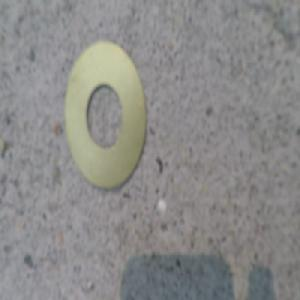Washer: (64, 41, 147, 191)
